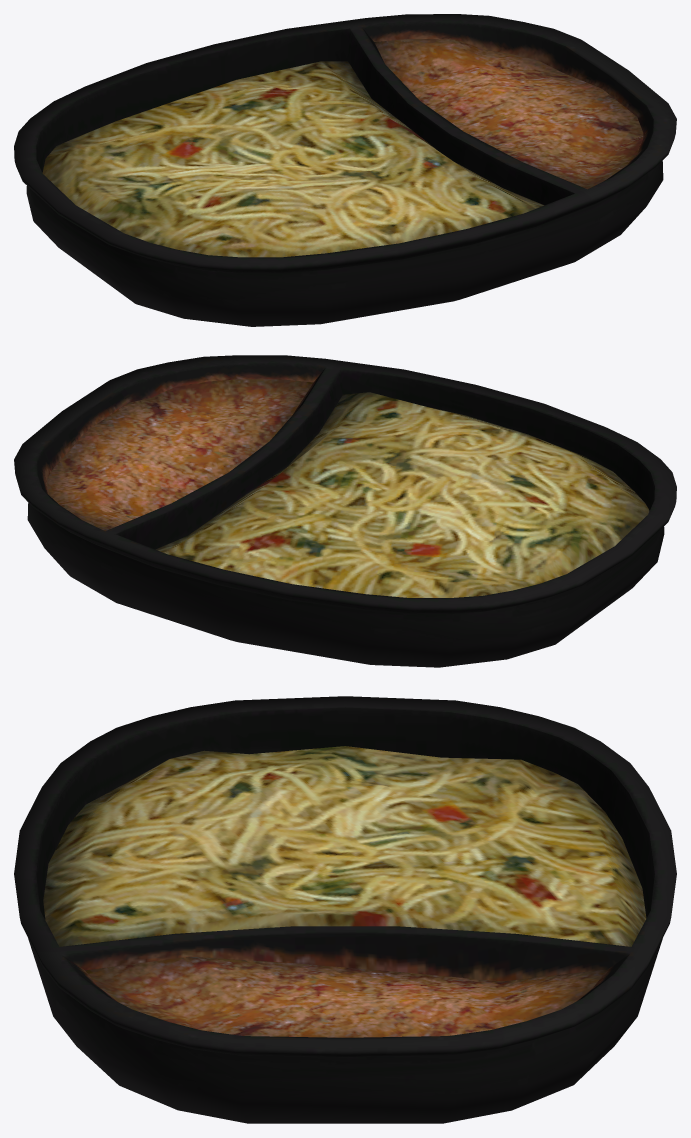
File: fastfood_box.dae
3 renders of one model, top to bottom at view 1: azimuth 30°, elevation 25°; view 2: azimuth 150°, elevation 25°; view 3: azimuth 270°, elevation 25°, orthographic. The views are drawn at different scales.
Visible parts, largest first — view 1: pCube15; view 2: pCube15; view 3: pCube15.
Boxes of the visible parts, bbox=[...] form: pCube15: bbox=[14, 14, 676, 326]; pCube15: bbox=[14, 355, 676, 667]; pCube15: bbox=[14, 696, 676, 1123].
Size of the model in its own units: 35.44 by 5.07 by 28.06.
